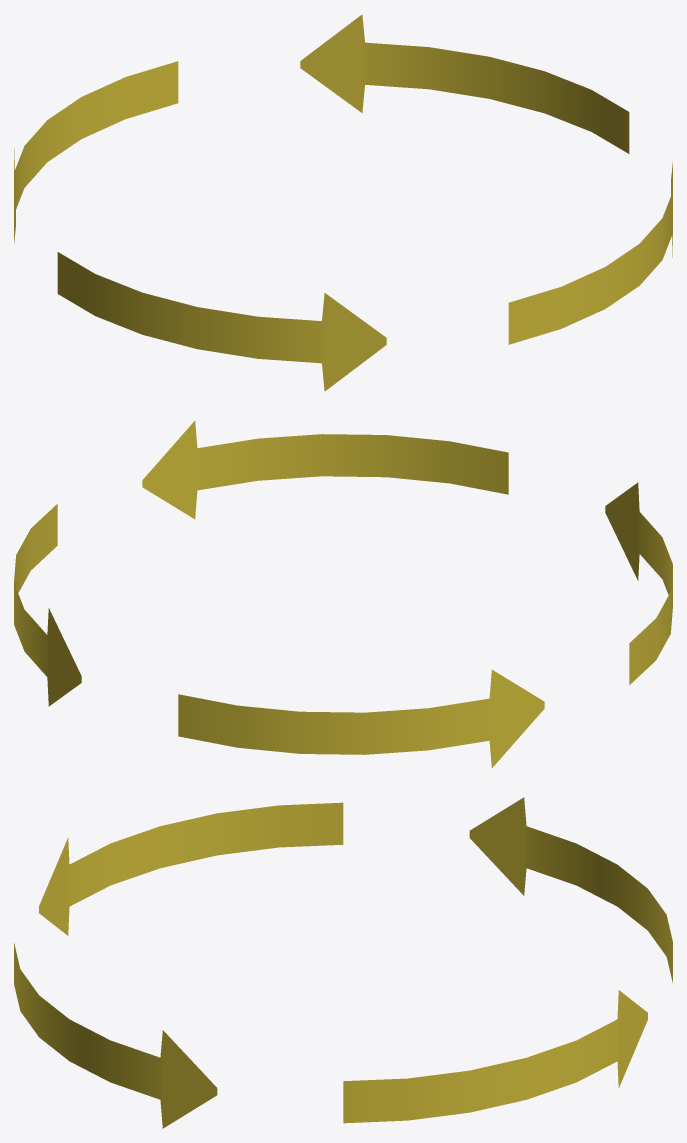
File: arrows.glb
3 renders of one model, top to bottom at view 1: azimuth 30°, elevation 25°; view 2: azimuth 150°, elevation 25°; view 3: azimuth 270°, elevation 25°, orthographic.
Visible parts, largest first — view 1: Circle.002; view 2: Circle.002; view 3: Circle.002.
Boxes of the visible parts, x1,y1,x2,y2 form: Circle.002: [14, 14, 672, 391]; Circle.002: [14, 421, 672, 767]; Circle.002: [14, 797, 672, 1128].
Size of the model in its own units: 2 by 0.3315 by 2.
